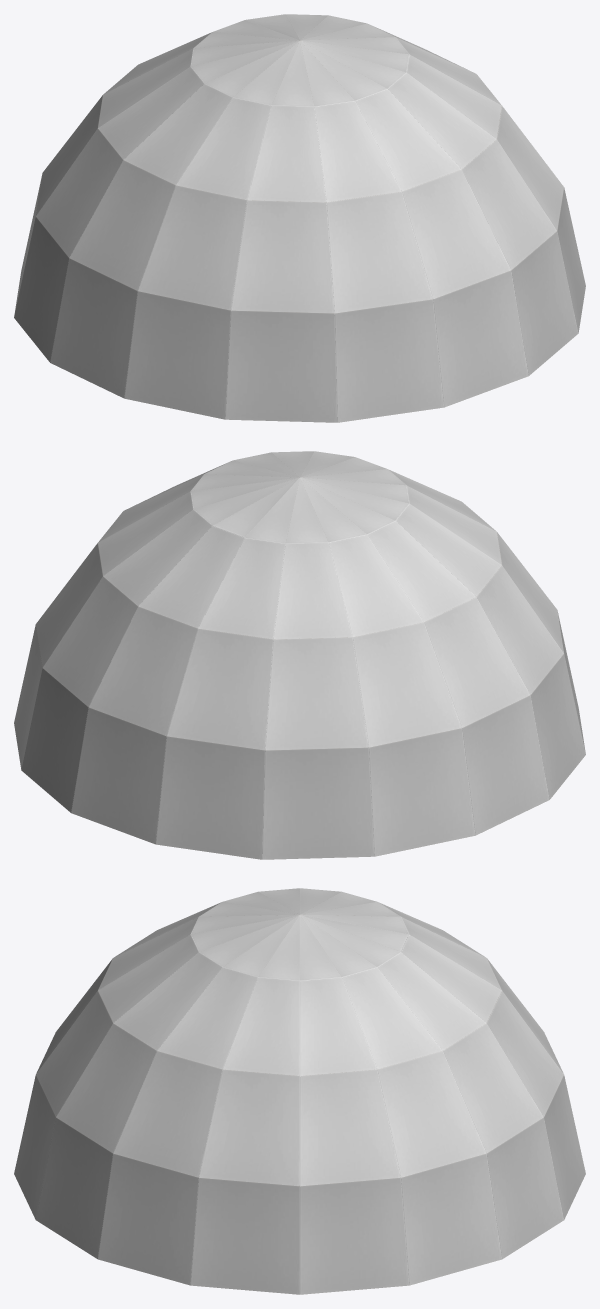
The model's file is Luna.FBX.
3 renders of one model, top to bottom at view 1: azimuth 30°, elevation 25°; view 2: azimuth 150°, elevation 25°; view 3: azimuth 270°, elevation 25°, orthographic.
Visible parts, largest first — view 1: Sphere001; view 2: Sphere001; view 3: Sphere001.
Boxes of the visible parts, box(x1,y1,x2,y2) form: Sphere001: box(14, 14, 585, 422); Sphere001: box(14, 451, 585, 859); Sphere001: box(14, 888, 585, 1294).
Size of the model in its own units: 330 by 165 by 330.
Materials: 2 (1 with a texture image).
